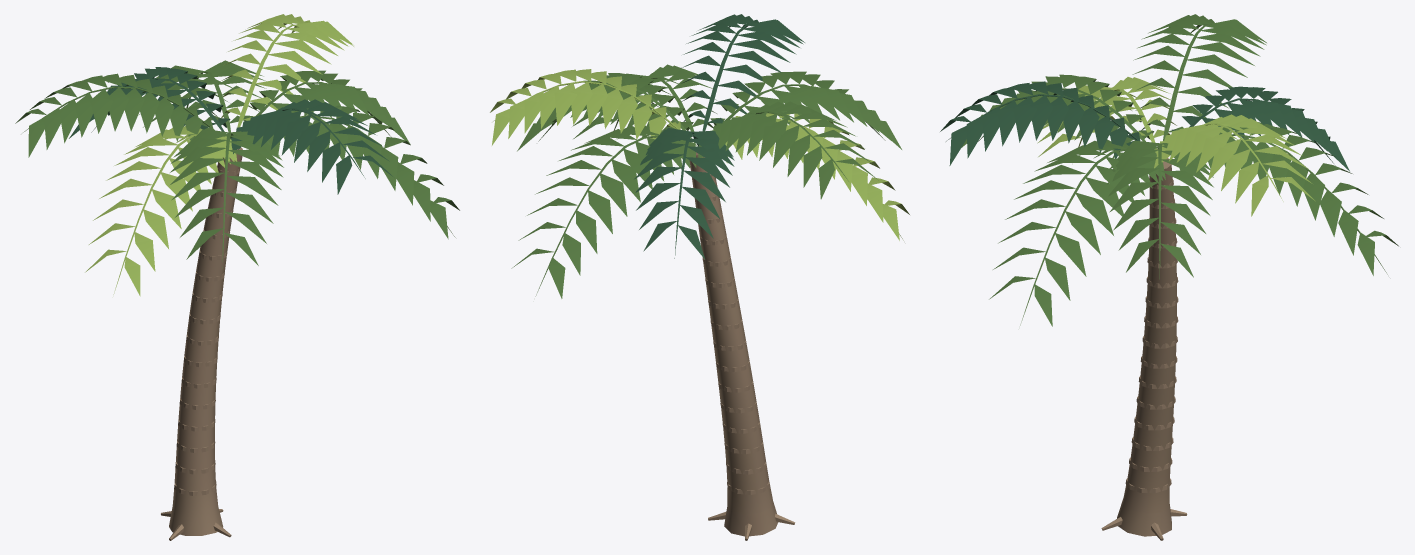
File: tree_coastal_palm_young.glb
3 views of the same model, side by side, from view 1: azimuth 30°, elevation 25°; view 2: azimuth 150°, elevation 25°; view 3: azimuth 270°, elevation 25° (orthographic). The views are drawn at different scales.
Parts seen in each view (by area): view 1: tree_coastal_palm_young_LOD0; view 2: tree_coastal_palm_young_LOD0; view 3: tree_coastal_palm_young_LOD0.
Part boxes in pixels (box(x1,y1,x2,y2)): tree_coastal_palm_young_LOD0: box(15, 14, 459, 540); tree_coastal_palm_young_LOD0: box(490, 14, 909, 540); tree_coastal_palm_young_LOD0: box(940, 14, 1398, 540).
Size of what is drawn, in the model's own units: 5.42 by 6.17 by 5.56.
